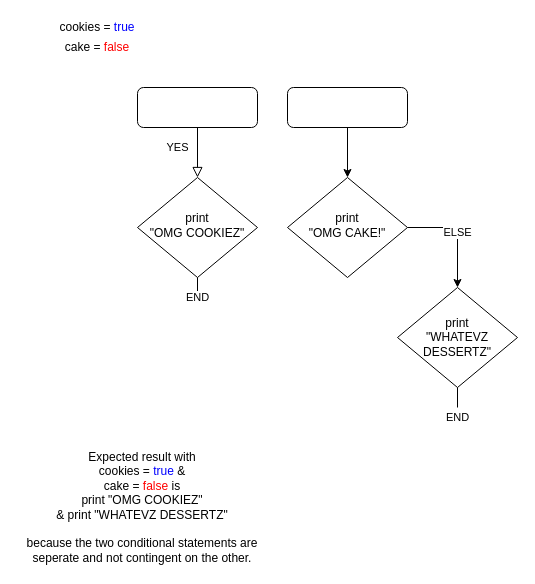
Image size: 535x584. Some labels were removed from this diagram. The shapes that lost their labels are listed below. From the top down, each one's centre as x and y in pixels, then its label:
At point (197, 107): "cookies == true".
At point (347, 107): "cake == true".
